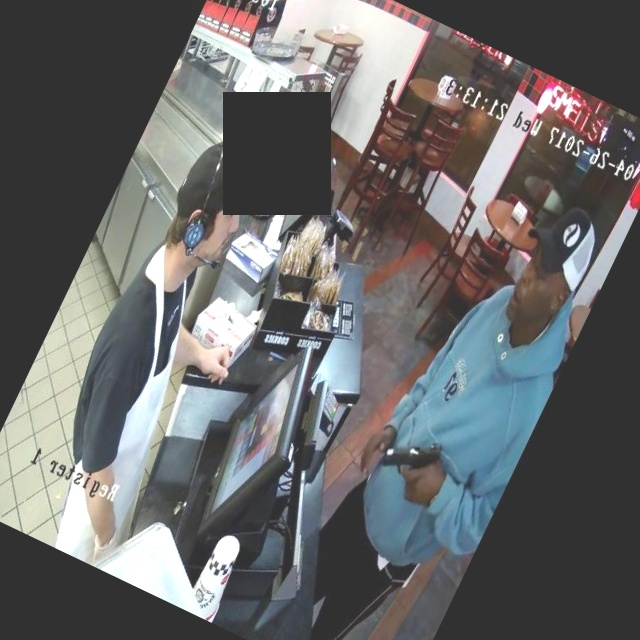gun: (359, 409, 466, 516)
